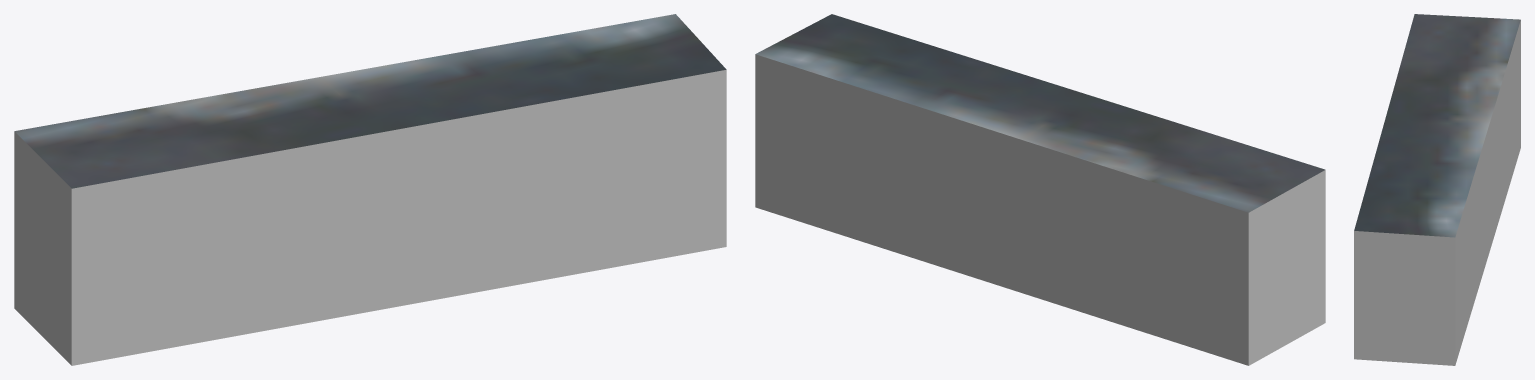
Rendered from DEBW_0010007Tx5f.gltf.
3 views of the same model, side by side, from view 1: azimuth 30°, elevation 25°; view 2: azimuth 150°, elevation 25°; view 3: azimuth 270°, elevation 25° (orthographic). The views are drawn at different scales.
Visible parts, largest first — view 1: Z_UP; view 2: Z_UP; view 3: Z_UP.
Part boxes in pixels (x1,y1,x2,y2): Z_UP: (14,14,726,365); Z_UP: (755,14,1325,365); Z_UP: (1354,14,1520,365).
Size of the model in its own units: 10.4 by 2.79 by 3.28.
Materials: 2 (1 with a texture image).
